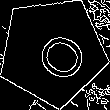O_NW: (20, 20, 85, 83)
